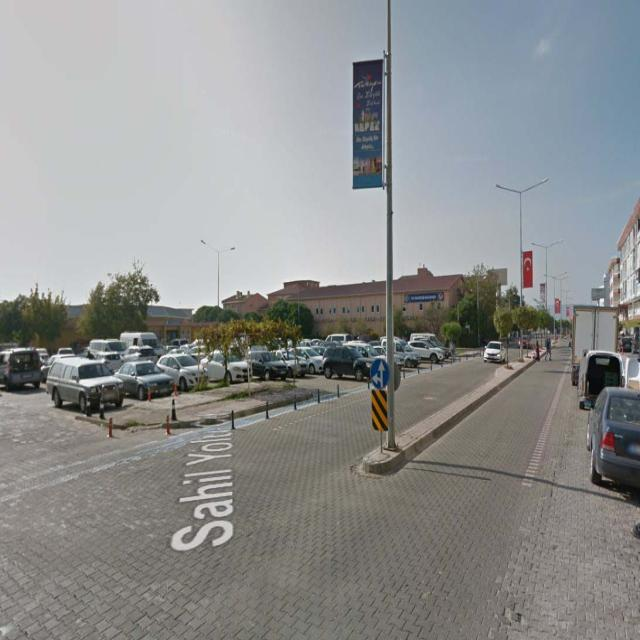ilerisol: (370, 360, 389, 388)
